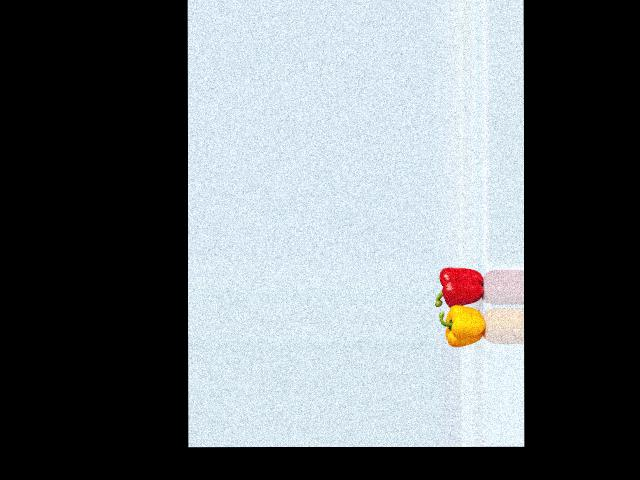bell_pepper: (436, 263, 488, 308)
